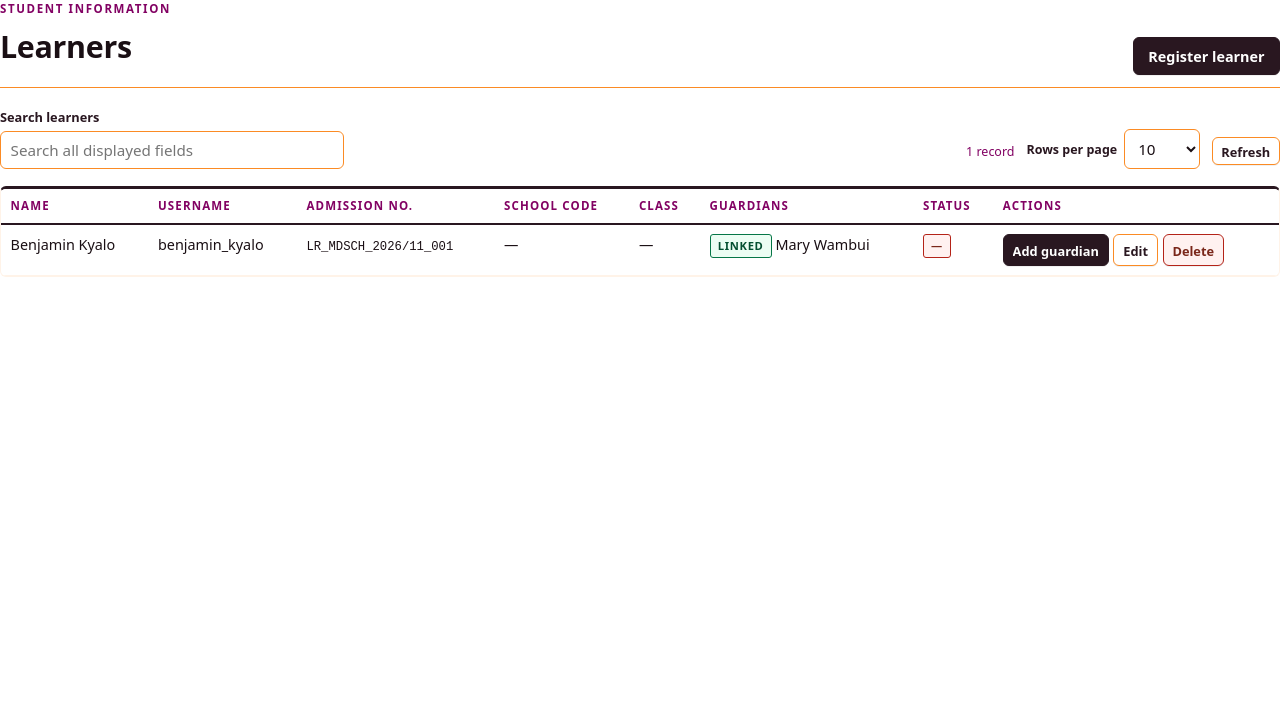
it: Learners guardian linking › blocks a duplicate link and explains why
Click the button "Add guardian" at {"x": 1056, "y": 250}, box x1=1003 y1=234 x2=1109 y2=266
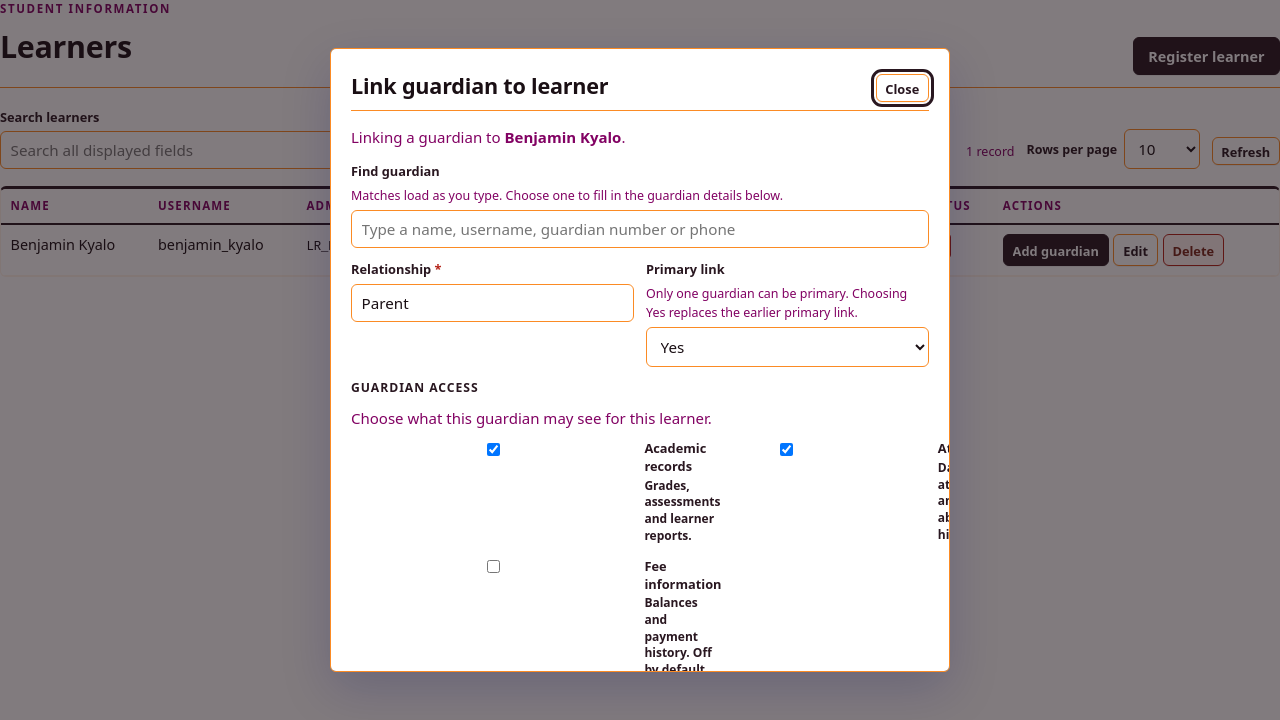
Type "mary" into the dropdown with placeholder "Type a name, username, guardian number or phone" at {"x": 640, "y": 229}, box x1=351 y1=210 x2=929 y2=248
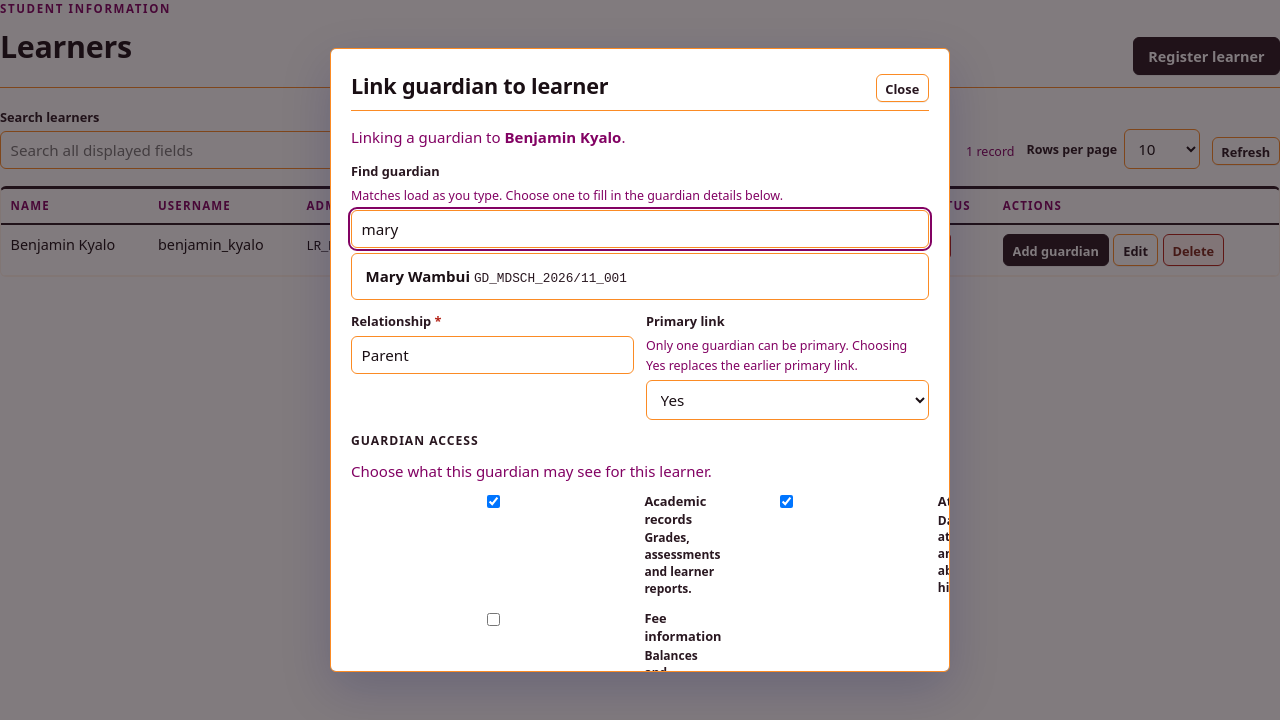
Click the text "Mary Wambui" at {"x": 418, "y": 276}, box x1=366 y1=266 x2=470 y2=286
(page scrolled)
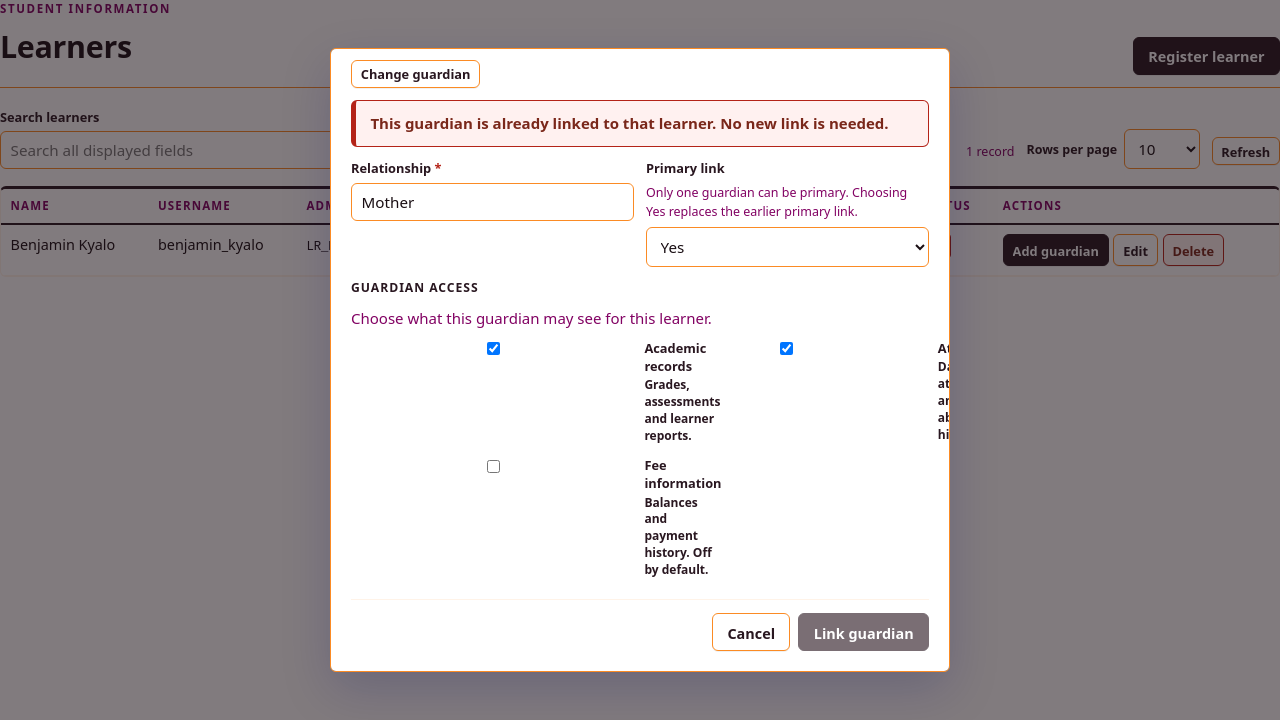
Now the button "Link guardian" is disabled, box x1=798 y1=613 x2=929 y2=651
Now the message shows "already linked to that learner", box x1=351 y1=100 x2=929 y2=147
